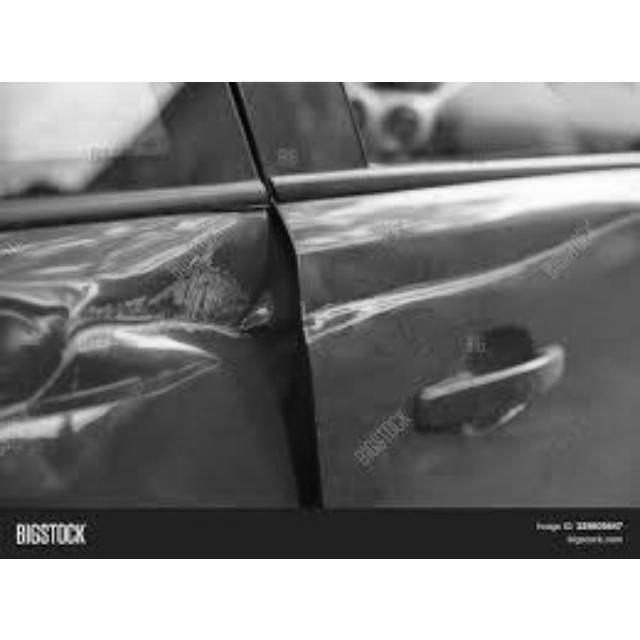doorouter-dent: (283, 187, 635, 509), (0, 207, 280, 512)
